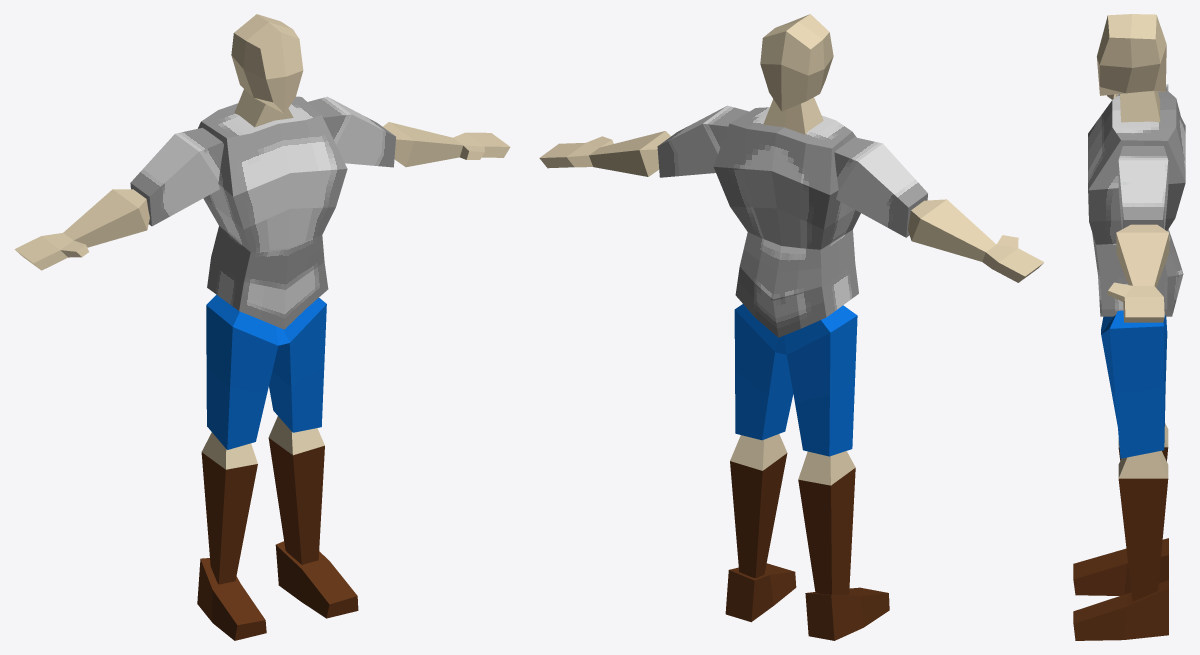
File: base_human_6.0.glb
3 views of the same model, side by side, from view 1: azimuth 30°, elevation 25°; view 2: azimuth 150°, elevation 25°; view 3: azimuth 270°, elevation 25° (orthographic). The views are drawn at different scales.
Visible parts, largest first — view 1: Body; view 2: Body; view 3: Body.
Boxes of the visible parts, x1,y1,x2,y2 form: Body: (14, 14, 510, 640); Body: (539, 14, 1044, 640); Body: (1073, 14, 1185, 640).
Size of the model in its own units: 2.96 by 3.46 by 0.5914.
4 materials, 1 textured.
